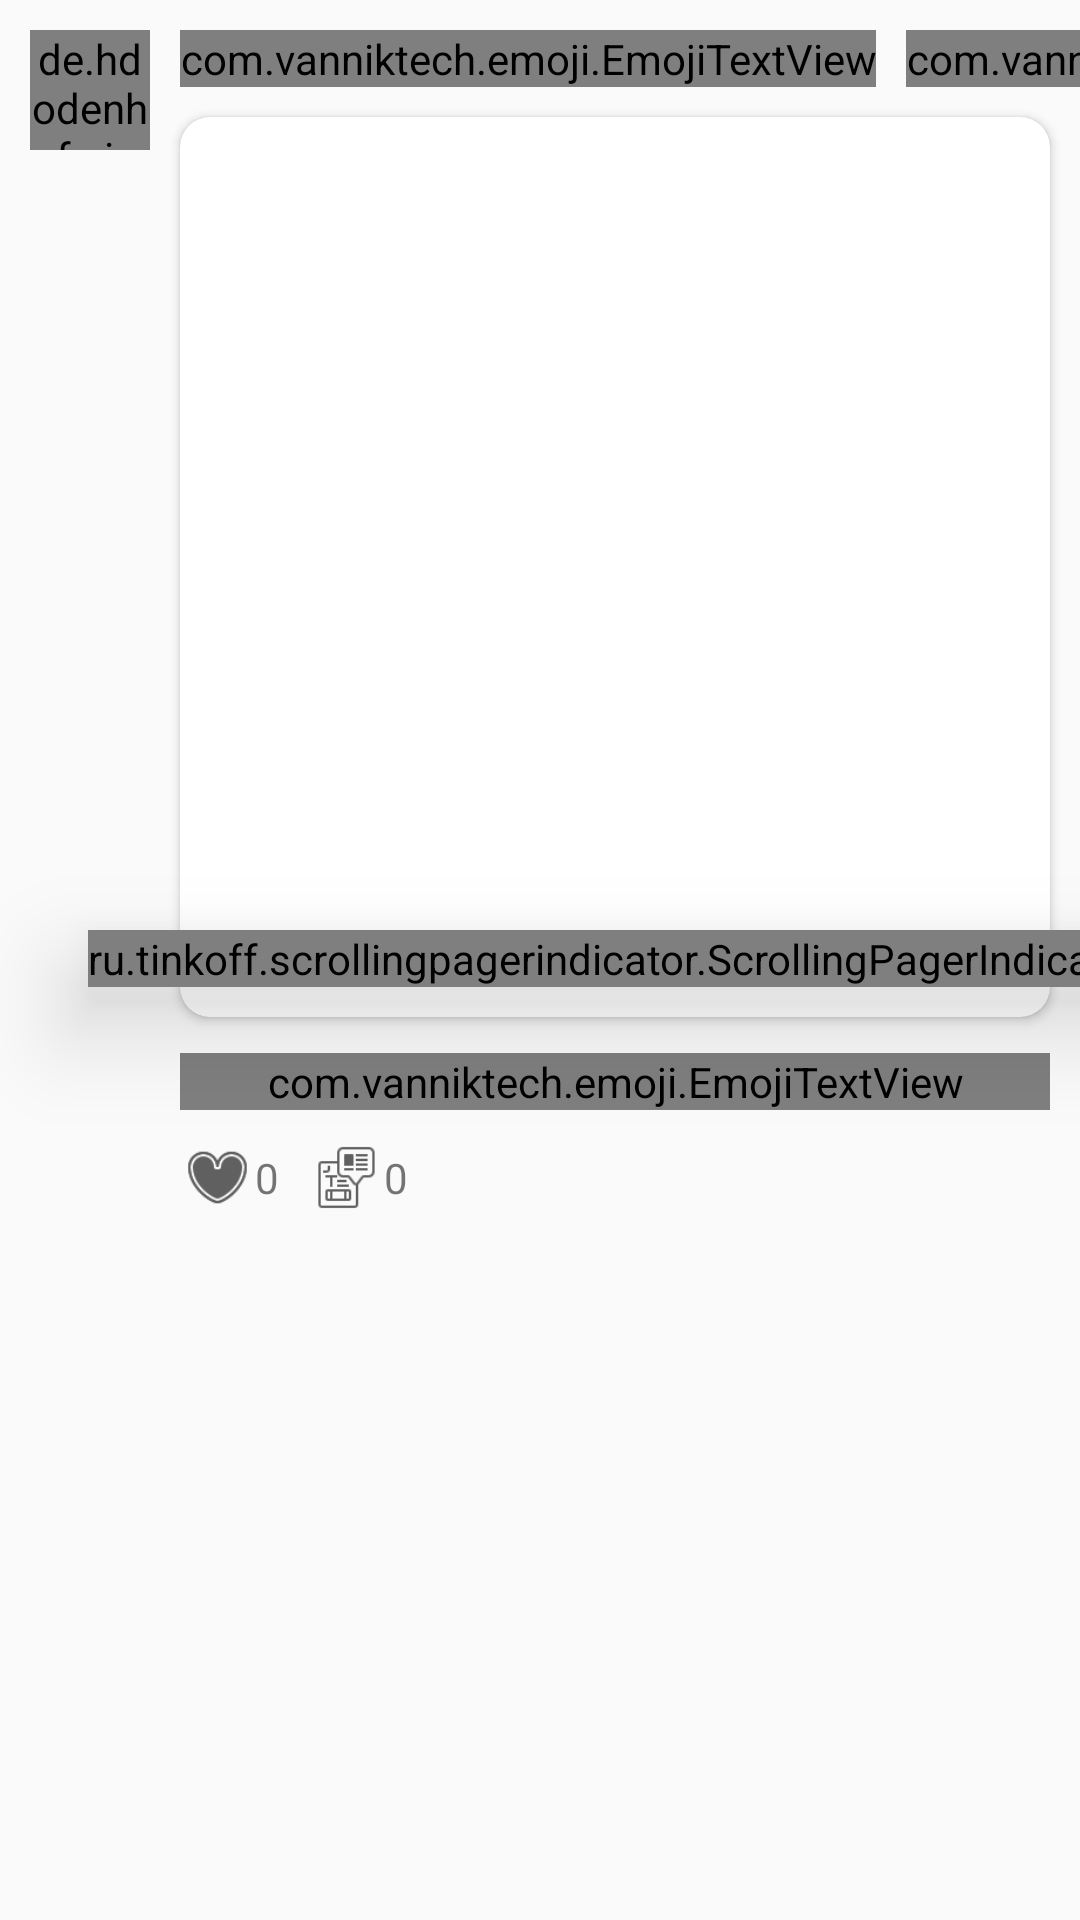

Icon bounding boxes for this 1080x1920 phone screenshot, format (x1,y1,x2,y2):
comment: (318,1147,375,1208)
love: (188,1151,247,1204)
